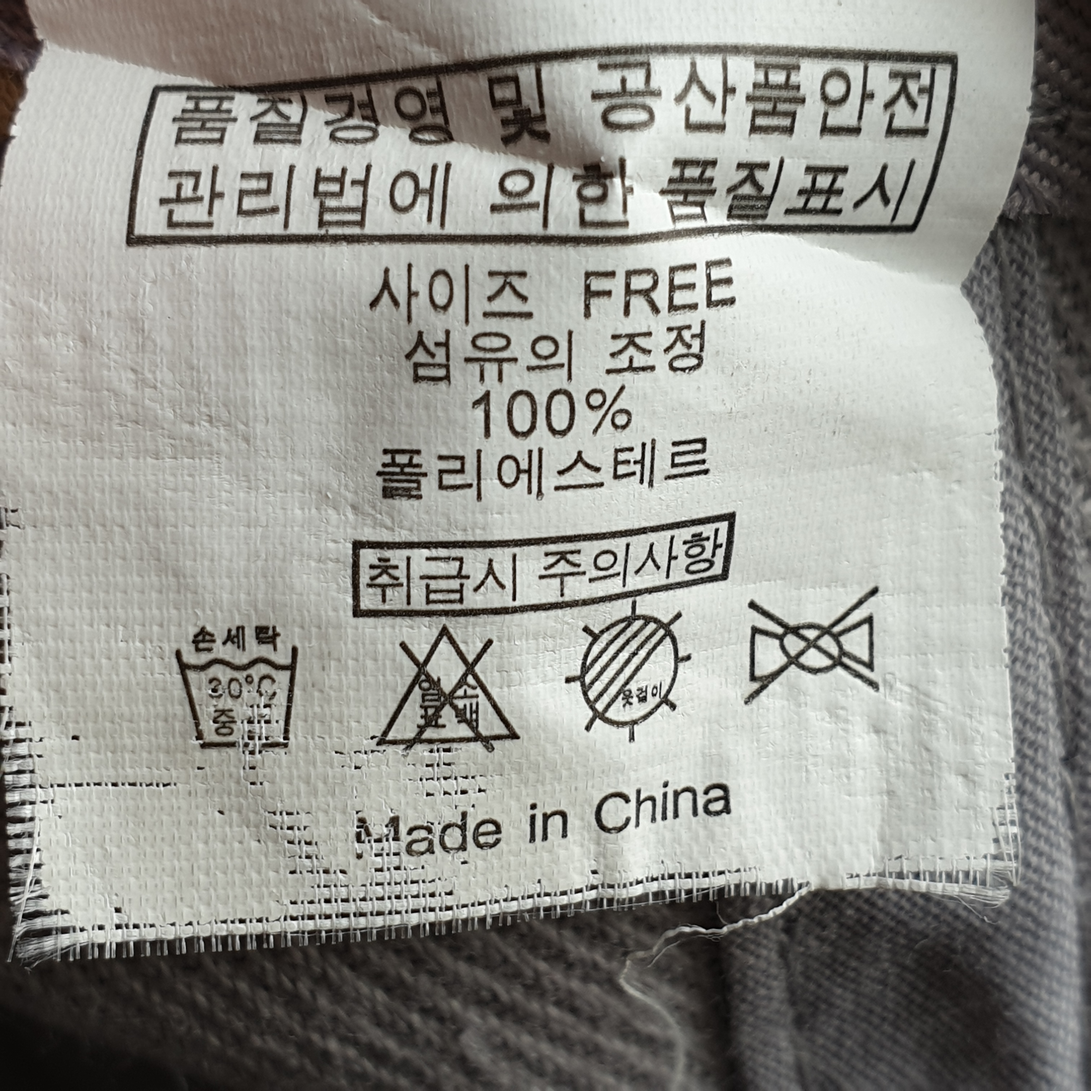KR_hand_wash_30_neutral: (166, 613, 307, 764)
KR_hang_dry_in_shade: (559, 607, 696, 738)
KR_no_chlorine_bleach: (367, 627, 524, 758)
KR_no_wring: (739, 594, 893, 711)
